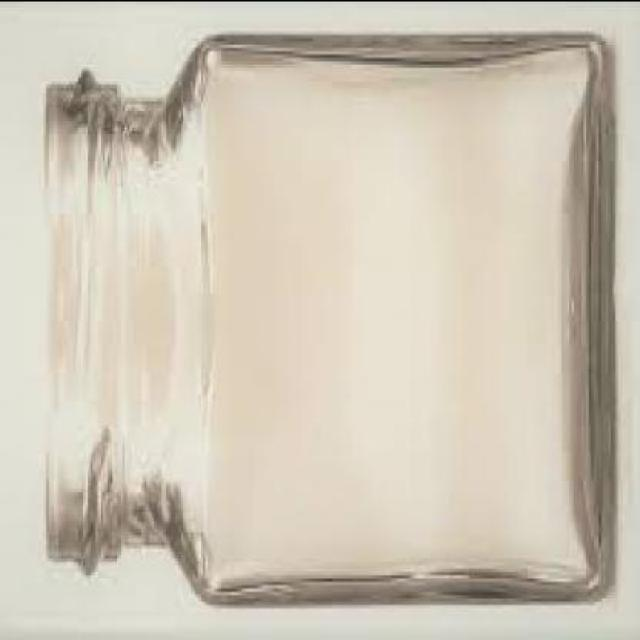GLASS: (44, 26, 610, 600)
